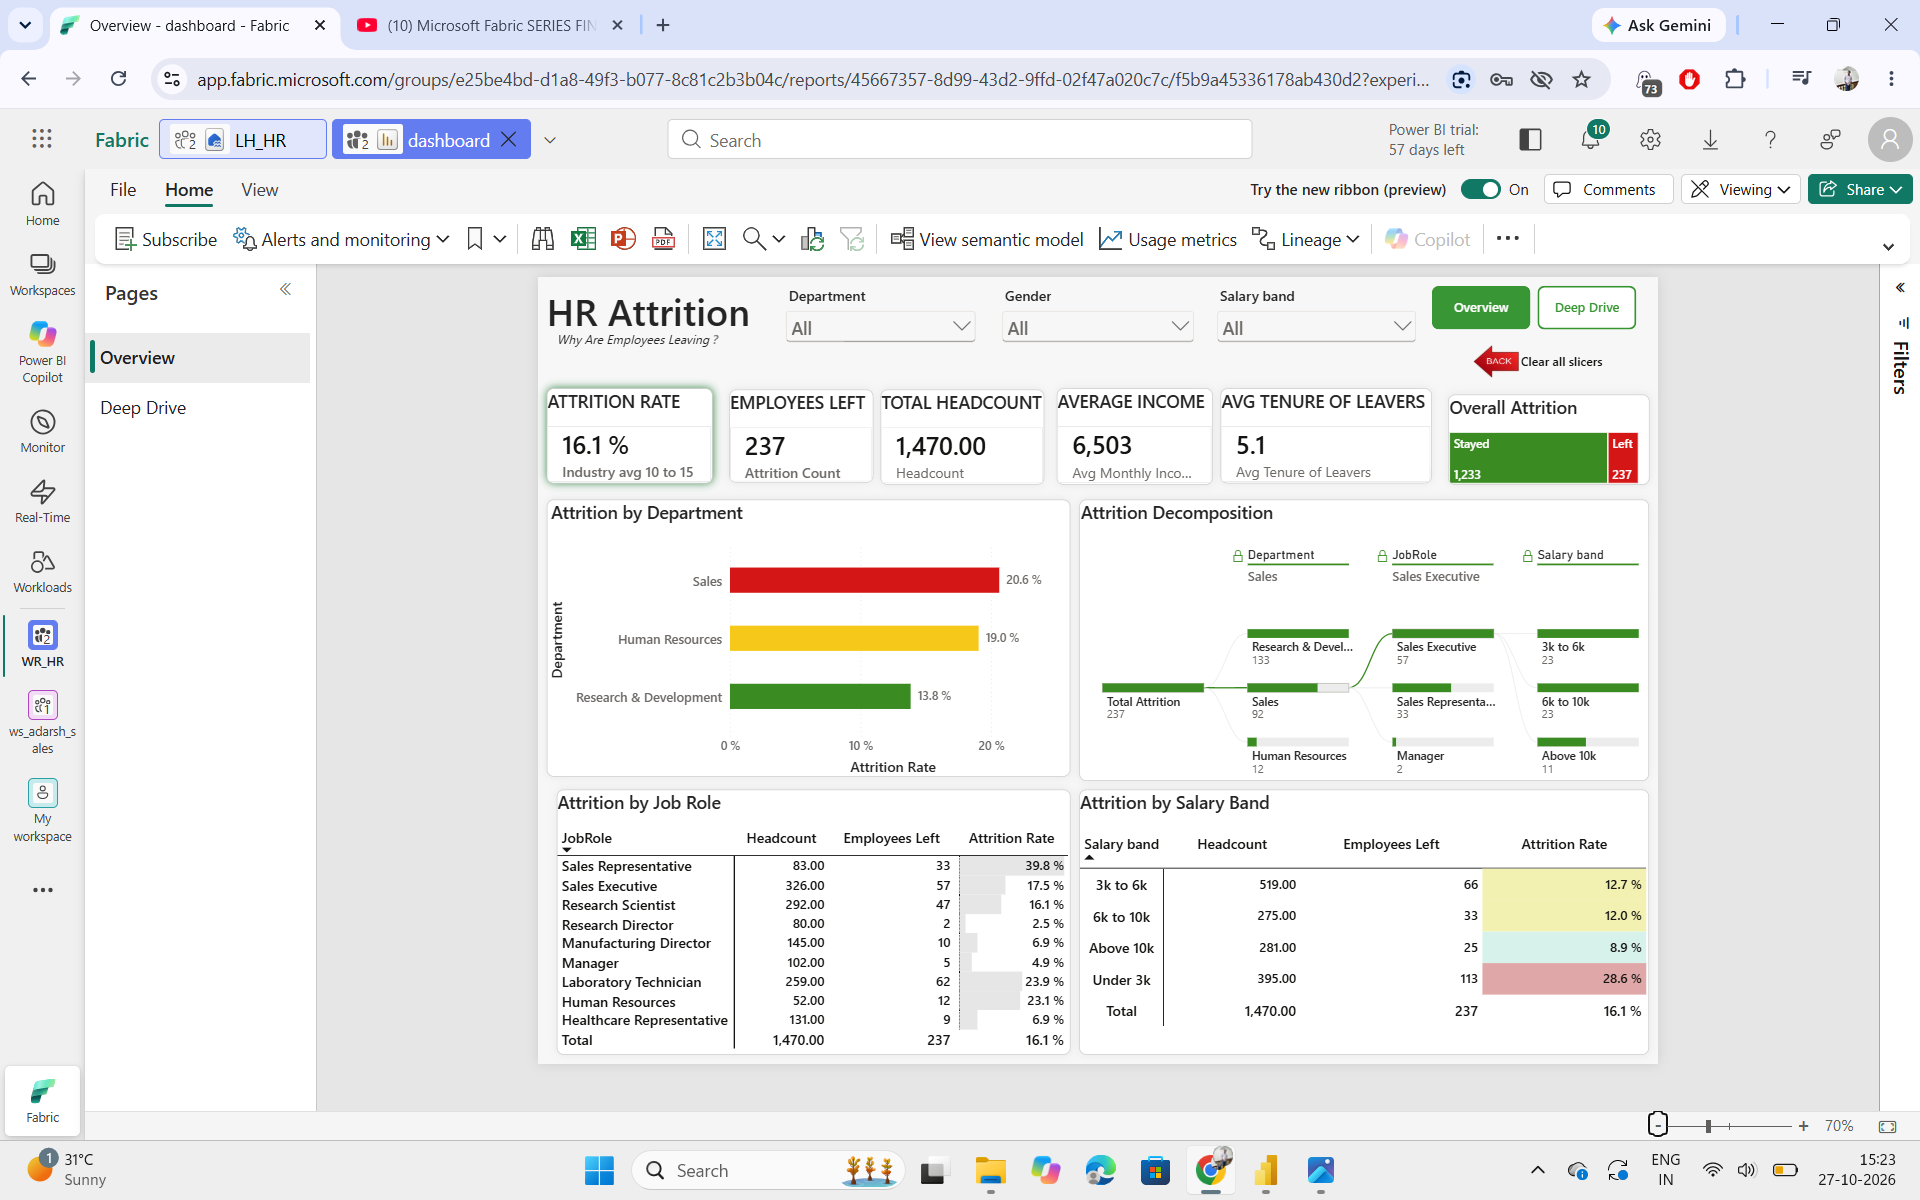

What the dashboard file says about the page in this screenshot:
{"tool":"powerbi","page":{"name":"Overview","canvas":[1280,900],"ordinal":0},"visuals":[{"type":"textbox","box":[10,10,280,67.1],"z":0},{"type":"textbox","box":[21.4,60,280,35.7],"z":1000},{"type":"slicer","fields":{"Values":["HR-Employees.Department"]},"box":[278.6,10,226.4,74.1],"z":2000},{"type":"slicer","fields":{"Values":["HR-Employees.Gender"]},"box":[525.7,10,229.2,74.1],"z":3000},{"type":"slicer","fields":{"Values":["HR-Employees.Salary band"]},"box":[771.4,10,237.4,72.7],"z":4000},{"type":"actionButton","box":[1070,71.4,200,50],"z":5000},{"type":"pageNavigator","box":[1021.4,10,235.7,50],"z":6000},{"type":"cardVisual","title":"ATTRITION RATE","fields":{"Data":["HR-Employees.Attrition Rate"]},"box":[10,127.1,189.7,109.1],"z":7000},{"type":"cardVisual","title":"EMPLOYEES LEFT","fields":{"Data":["HR-Employees.Employees Left"]},"box":[218.6,128.6,165,106.5],"z":8000},{"type":"cardVisual","title":"TOTAL HEADCOUNT","fields":{"Data":["HR-Employees.Headcount"]},"box":[391.4,128.6,187.1,109.1],"z":9000},{"type":"cardVisual","title":"AVERAGE INCOME","fields":{"Data":["HR-Employees.Avg Monthly Income"]},"box":[592.9,127.1,178.6,110],"z":10000},{"type":"cardVisual","title":"AVG TENURE OF LEAVERS","fields":{"Data":["HR-Employees.Avg Tenure of Leavers"]},"box":[780,127.1,241.4,108.6],"z":11000},{"type":"treemap","title":"Overall Attrition","fields":{"Values":["HR-Employees.Employees Left","HR-Employees.Employees Stayed"]},"box":[1040,134.3,230,102.9],"z":12000},{"type":"barChart","title":"Attrition by Department","fields":{"Category":["HR-Employees.Department"],"Y":["HR-Employees.Attrition Rate"]},"box":[10,254.3,598.6,317.1],"z":13000},{"type":"decompositionTreeVisual","title":"Attrition Decomposition","fields":{"Analyze":["HR-Employees.Employees Left"],"ExplainBy":["HR-Employees.Department","HR-Employees.JobRole","HR-Employees.Salary band"]},"box":[618.6,254.3,651.4,321.4],"z":14000},{"type":"pivotTable","title":"Attrition by Job Role","fields":{"Rows":["HR-Employees.JobRole"],"Values":["HR-Employees.Headcount","HR-Employees.Employees Left","HR-Employees.Attrition Rate"]},"box":[21.4,585.7,587.1,302.9],"z":15000},{"type":"pivotTable","title":"Attrition by Salary Band","fields":{"Rows":["HR-Employees.Salary band"],"Values":["HR-Employees.Headcount","HR-Employees.Employees Left","HR-Employees.Attrition Rate"]},"box":[618.6,585.7,651.4,302.9],"z":16000},{"type":"image","box":[1020,78.6,150,35.7],"z":16001}]}

Visuals, with their boxes on the page's 1280x900 design canvas (x1, y1, x2, y2). These are canvas units, not pixel positions in the 1920x1200 screenshot, which may show the page scaled, cropped or inside an application window:
textbox: [10,10,290,77]
textbox: [21,60,301,96]
slicer - HR-Employees.Department: [279,10,505,84]
slicer - HR-Employees.Gender: [526,10,755,84]
slicer - HR-Employees.Salary band: [771,10,1009,83]
actionButton: [1070,71,1270,121]
pageNavigator: [1021,10,1257,60]
"ATTRITION RATE" cardVisual: [10,127,200,236]
"EMPLOYEES LEFT" cardVisual: [219,129,384,235]
"TOTAL HEADCOUNT" cardVisual: [391,129,578,238]
"AVERAGE INCOME" cardVisual: [593,127,772,237]
"AVG TENURE OF LEAVERS" cardVisual: [780,127,1021,236]
"Overall Attrition" treemap: [1040,134,1270,237]
"Attrition by Department" barChart: [10,254,609,571]
"Attrition Decomposition" decompositionTreeVisual: [619,254,1270,576]
"Attrition by Job Role" pivotTable: [21,586,608,889]
"Attrition by Salary Band" pivotTable: [619,586,1270,889]
image: [1020,79,1170,114]
